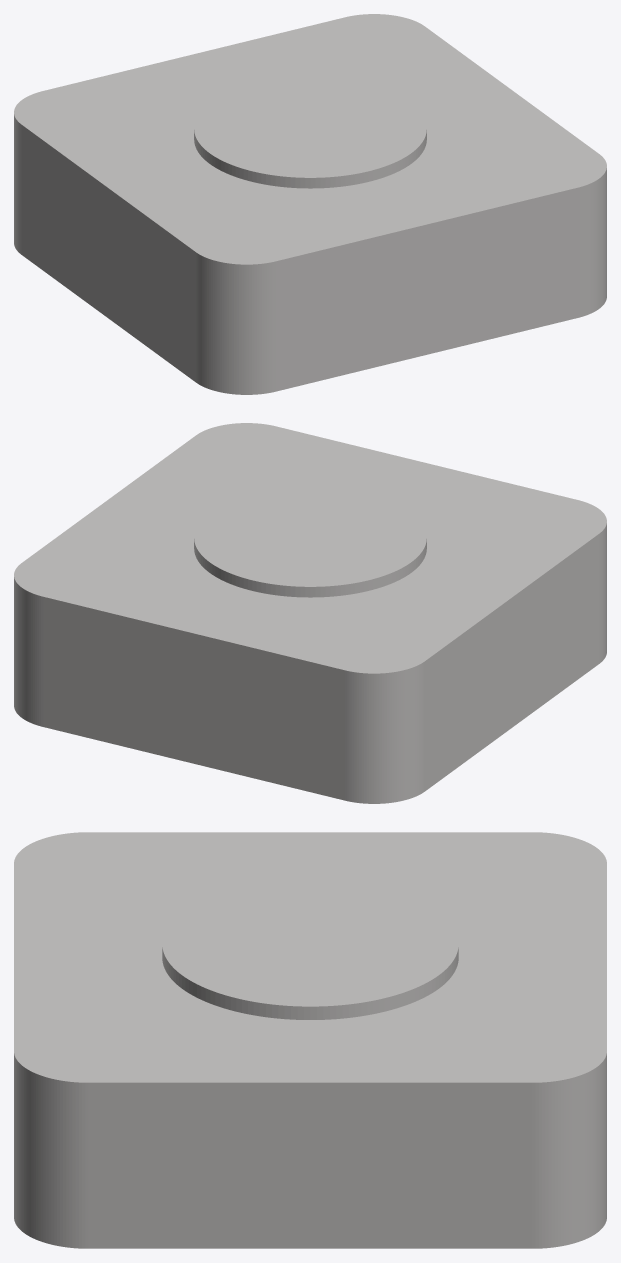
The model's file is mobile_base.dae.
3 views of the same model, one above another, from view 1: azimuth 30°, elevation 25°; view 2: azimuth 150°, elevation 25°; view 3: azimuth 270°, elevation 25° (orthographic). The views are drawn at different scales.
Visible parts, largest first — view 1: MobileBase; view 2: MobileBase; view 3: MobileBase.
Part boxes in pixels (left/top/right/bottom): MobileBase: left=14, top=14, right=606, bottom=394; MobileBase: left=14, top=423, right=606, bottom=803; MobileBase: left=14, top=832, right=606, bottom=1248.
Size of the model in its own units: 0.3972 by 0.3972 by 0.1327.
1 material, 1 textured.
